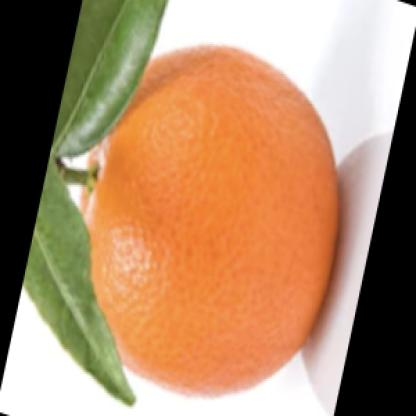fresh: (84, 40, 342, 397)
